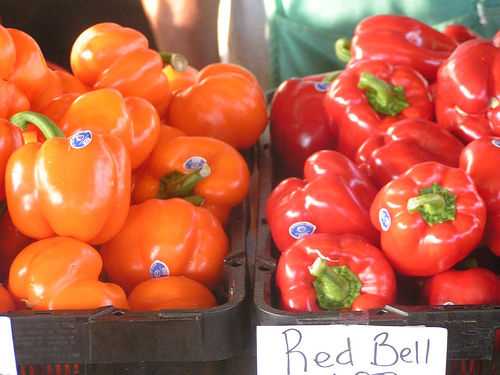capsicum: (4, 111, 132, 243)
